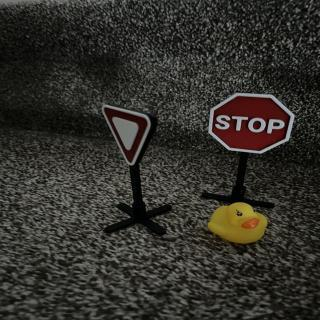duck_regular: (208, 203, 270, 246)
sign_stop: (210, 95, 296, 157)
sign_yield: (103, 107, 159, 168)
